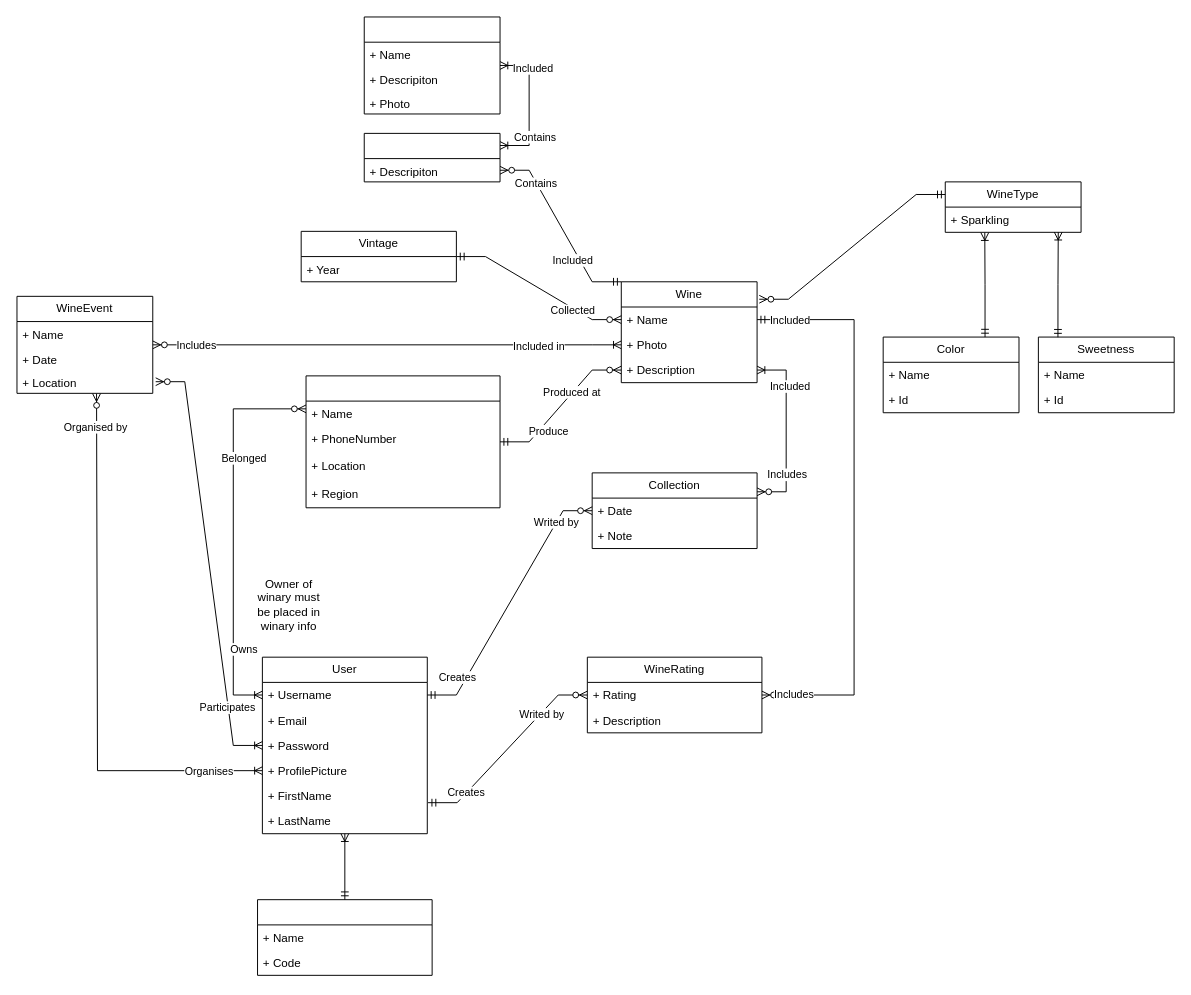
Image size: 1191x995. Some labels were removed from this diagram. Each missing label, with the box of its shape:
Food: (363, 16, 500, 114)
FoodPairing: (363, 132, 500, 182)
Role: (257, 899, 432, 975)
Winery: (305, 375, 500, 508)
